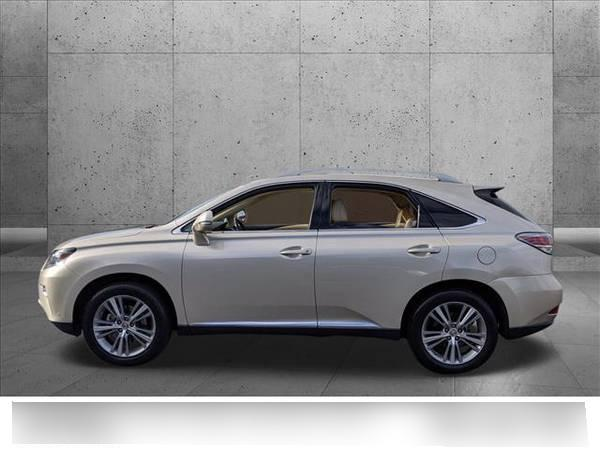Front_Bumper: (37, 262, 87, 334)
Front_Fender: (66, 238, 190, 323)
Front_Left_Door: (180, 229, 315, 329)
Front_Left_Window: (184, 181, 321, 238)
Hood: (54, 224, 192, 249)
Left_Headlight: (40, 250, 74, 273)
Left_Taillight: (514, 228, 554, 254)
Rear_Bumper: (488, 274, 565, 335)
Rear_Fender: (410, 188, 554, 282)
Rear_Left_Door: (313, 228, 446, 328)
Rear_Left_Window: (313, 181, 434, 231)
Roof: (182, 166, 544, 229)
Wheel: (406, 286, 501, 376), (84, 281, 171, 365)
